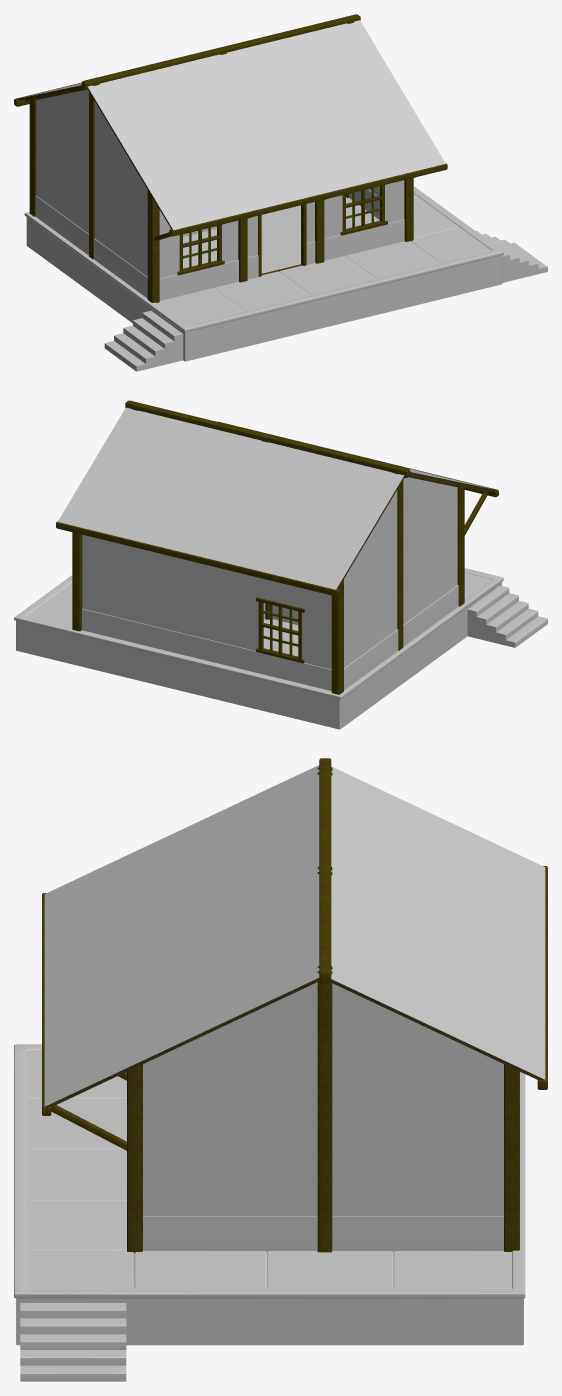
File: PostoTelegrafico_30mai.fbx
The picture shows the model from 3 angles, top to bottom: view 1: azimuth 30°, elevation 25°; view 2: azimuth 150°, elevation 25°; view 3: azimuth 270°, elevation 25°; orthographic projection. The views are drawn at different scales.
Parts seen in each view (by area): view 1: pCube772; view 2: pCube772; view 3: pCube772.
Part boxes in pixels (<box>): pCube772: <box>14,14,547,371</box>; pCube772: <box>14,400,547,729</box>; pCube772: <box>14,758,547,1381</box>.
Size of the model in its own units: 1524 by 744 by 1072.
